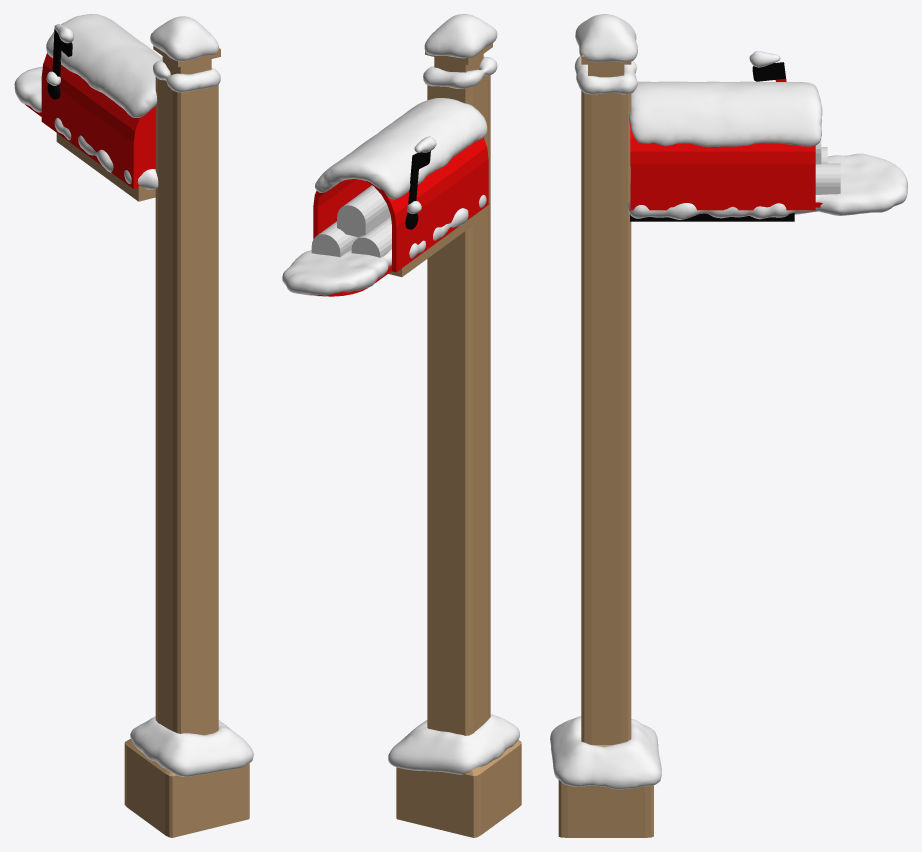
The model's file is Letter Box SNOW.fbx.
3 renders of one model, left to right at view 1: azimuth 30°, elevation 25°; view 2: azimuth 150°, elevation 25°; view 3: azimuth 270°, elevation 25°, orthographic.
Parts seen in each view (by area): view 1: Cube.002, SnowBall.001; view 2: Cube.002, SnowBall.001, Cube; view 3: Cube.002, SnowBall.001, Cube.
Part boxes in pixels (<box>): Cube.002: <box>25,28,249,837</box>; SnowBall.001: <box>14,14,253,776</box>; Cube.002: <box>310,43,521,837</box>; SnowBall.001: <box>282,14,519,774</box>; Cube: <box>311,185,391,257</box>; Cube.002: <box>558,54,822,837</box>; SnowBall.001: <box>550,14,907,789</box>; Cube: <box>630,138,840,200</box>.
Bounding box in the file's own units: 64.56 × 477 × 194.
